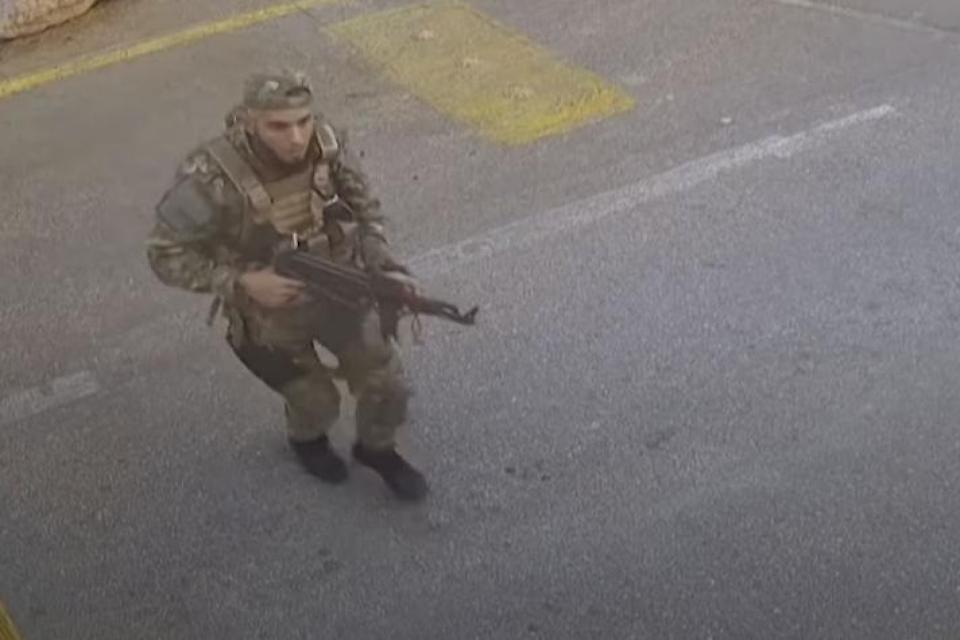non-violence: (129, 59, 449, 516)
weapon: (233, 228, 488, 352)
